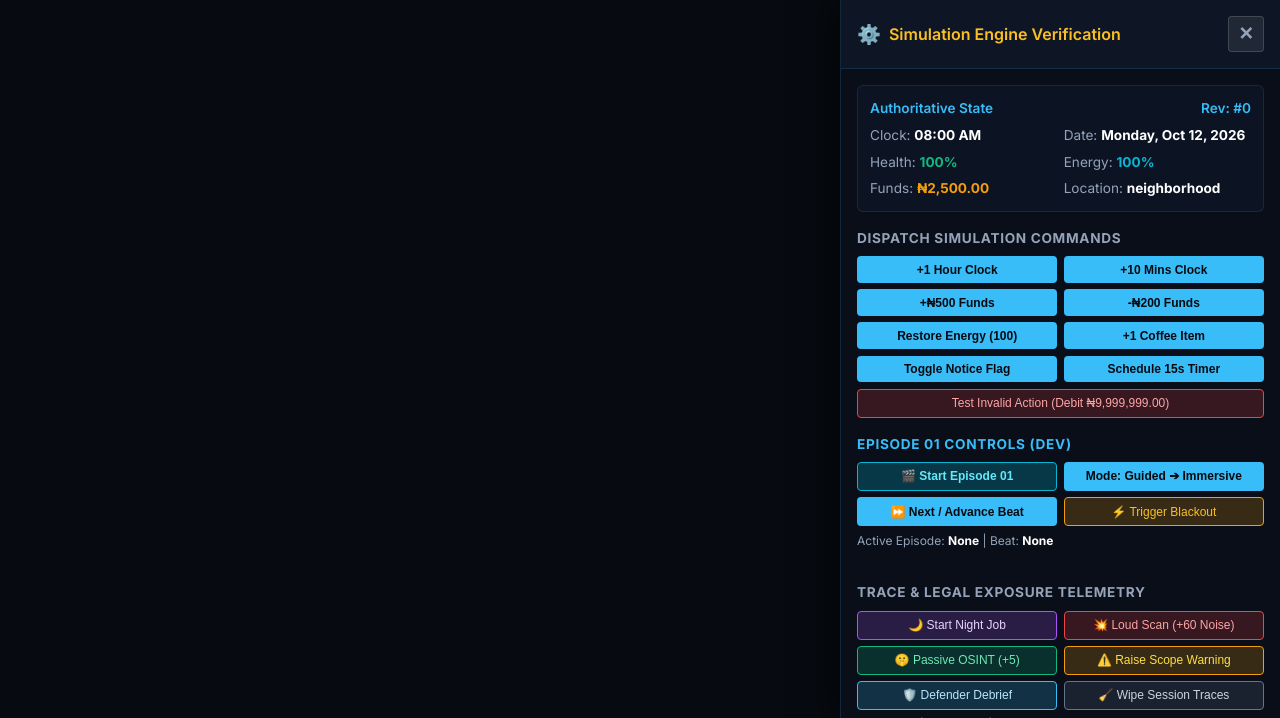
Test: DevSimulationDrawer Component › handles invalid actions by showing rejection message, error code, and leaving state unchanged
Click the button with test id "dev-btn-test-invalid" at (1060, 403), box [857,389,1264,418]
(page scrolled)
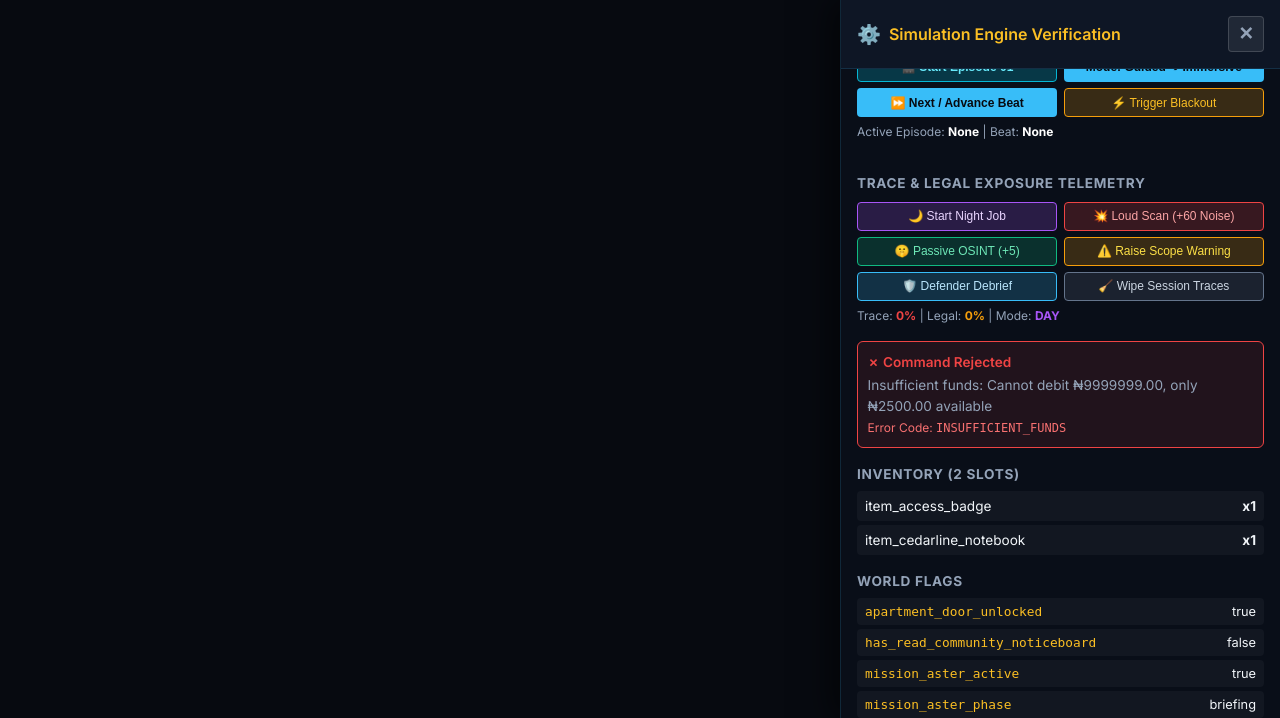
Now the element with test id "dev-command-result" shows "Command Rejected", box [868,354,1011,370]
Now the element with test id "dev-command-result" shows "INSUFFICIENT_FUNDS", box [936,421,1066,435]
